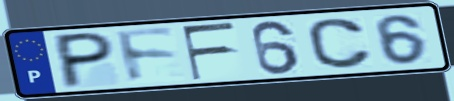6: (372, 12, 429, 67), (250, 18, 302, 77)
C: (304, 16, 376, 71)
F: (112, 26, 181, 86), (178, 20, 239, 83)
P: (55, 30, 117, 91)
